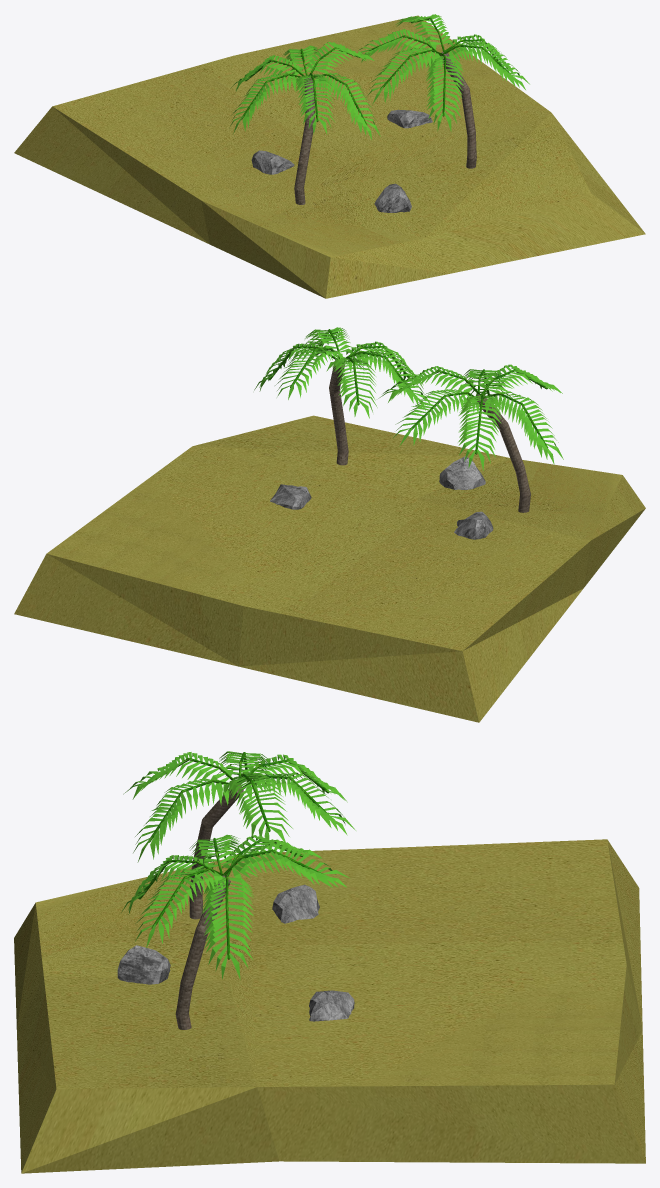
File: palmdiorama.glb
The picture shows the model from 3 angles, top to bottom: view 1: azimuth 30°, elevation 25°; view 2: azimuth 150°, elevation 25°; view 3: azimuth 270°, elevation 25°; orthographic projection. The views are drawn at different scales.
Visible parts, largest first — view 1: Cube.001; view 2: Cube.001; view 3: Cube.001.
Boxes of the visible parts, box(x1,y1,x2,y2) form: Cube.001: box(14, 14, 645, 298); Cube.001: box(14, 327, 645, 722); Cube.001: box(14, 751, 645, 1173).
Bounding box in the file's own units: 9.69 × 4.05 × 9.47.
1 material, 1 textured.
